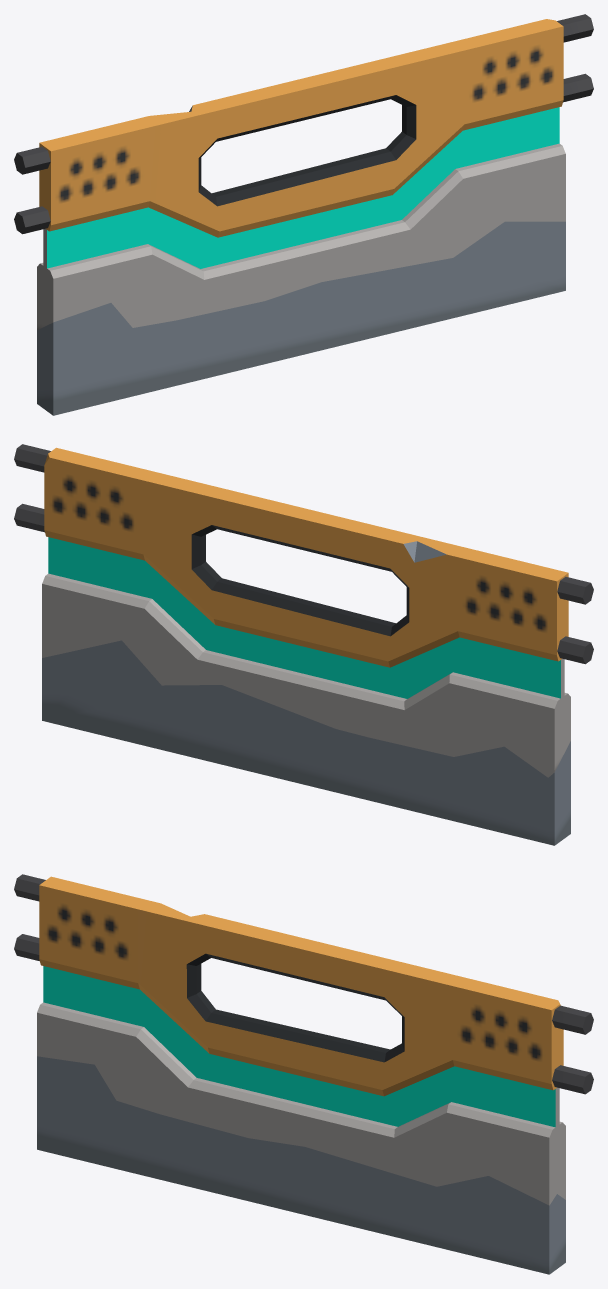
File: SM_Bld_Railing_Rail_Straight_02.fbx
3 views of the same model, one above another, from view 1: azimuth 30°, elevation 25°; view 2: azimuth 150°, elevation 25°; view 3: azimuth 330°, elevation 25° (orthographic).
Visible parts, largest first — view 1: SM_Bld_Railing_Rail_Straight_02; view 2: SM_Bld_Railing_Rail_Straight_02; view 3: SM_Bld_Railing_Rail_Straight_02.
Boxes of the visible parts, x1,y1,x2,y2 form: SM_Bld_Railing_Rail_Straight_02: (14, 14, 593, 415); SM_Bld_Railing_Rail_Straight_02: (14, 444, 593, 845); SM_Bld_Railing_Rail_Straight_02: (14, 874, 593, 1274).
Size of the model in its own units: 250 by 110 by 12.49.
